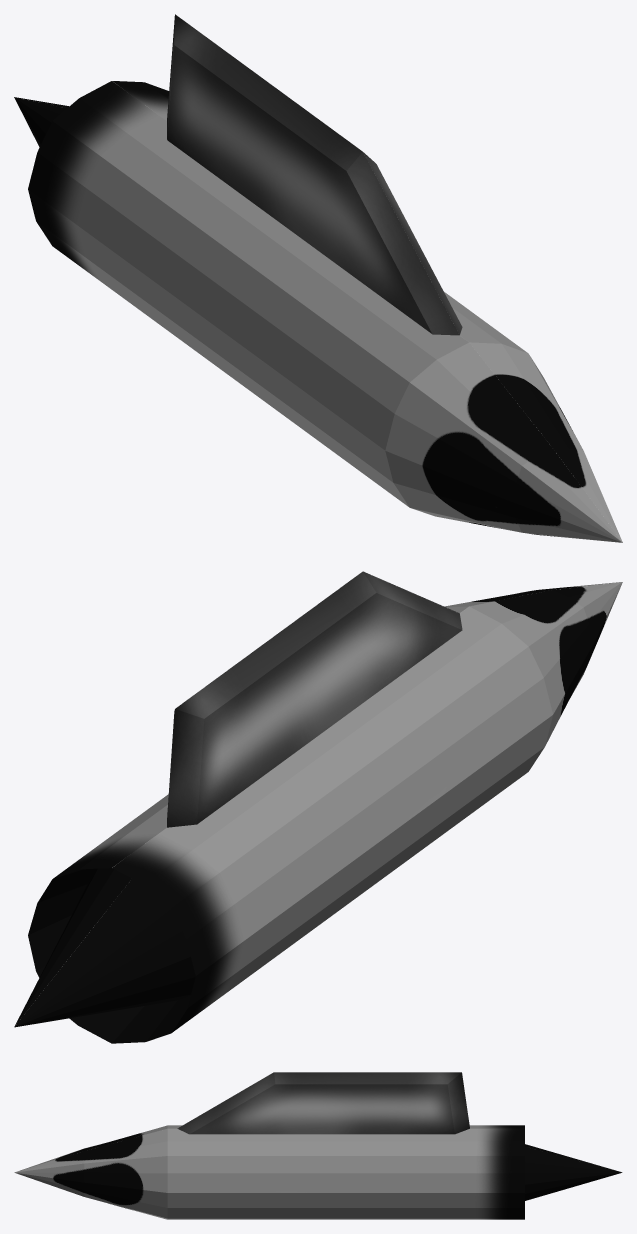
The model's file is MM_pod.fbx.
3 views of the same model, one above another, from view 1: azimuth 30°, elevation 25°; view 2: azimuth 150°, elevation 25°; view 3: azimuth 270°, elevation 25° (orthographic). The views are drawn at different scales.
Visible parts, largest first — view 1: Cube; view 2: Cube; view 3: Cube.
Boxes of the visible parts, box(x1,y1,x2,y2) form: Cube: box(14, 14, 622, 542); Cube: box(14, 571, 622, 1043); Cube: box(14, 1072, 622, 1219).
Size of the model in its own units: 28.11 by 46.18 by 177.
1 material, 1 textured.
